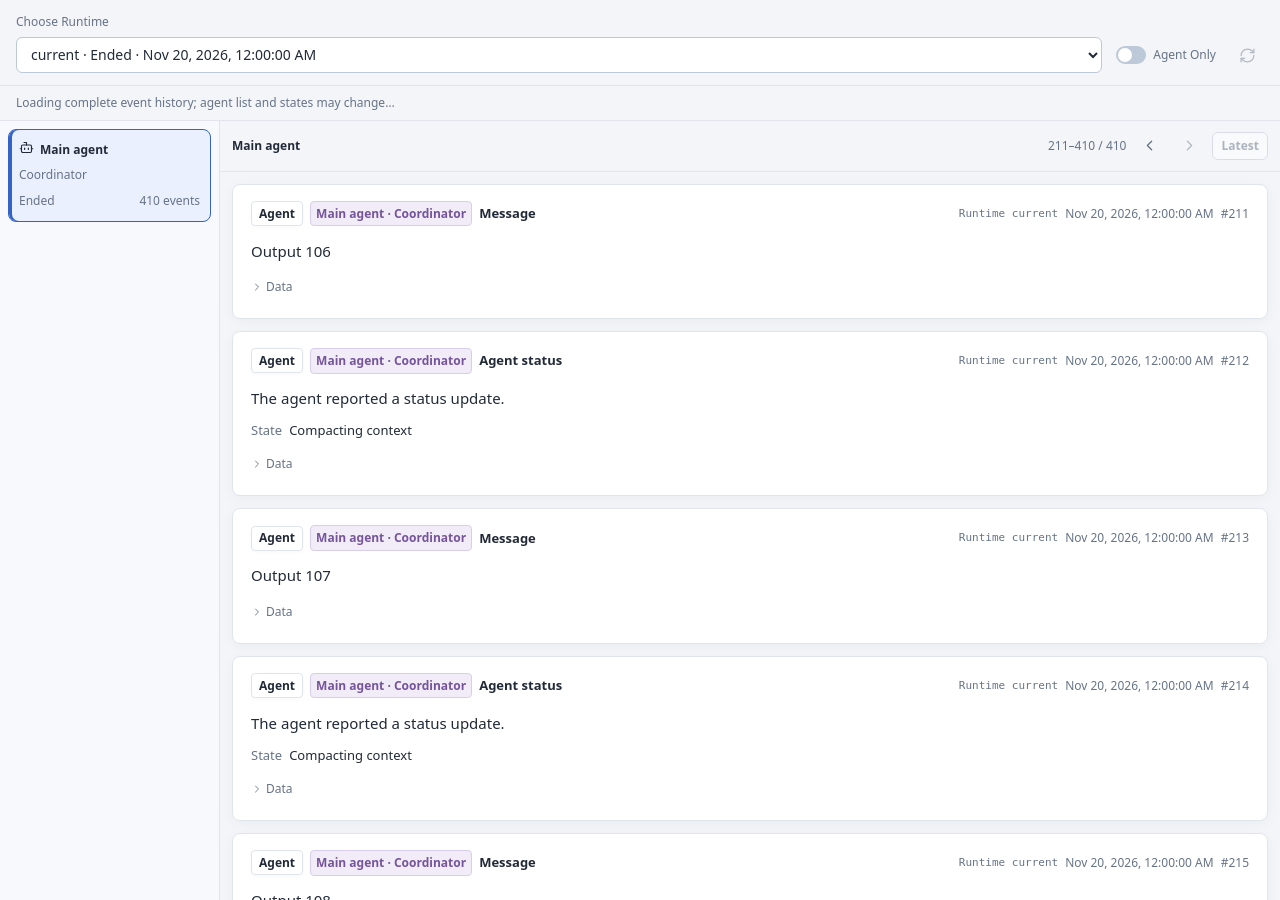
it: resets pagination when Agent Only is enabled and pages only matching messages
What coordinates should you click on to do the following:
click the button named "Previous page"
I would click on:
 (1150, 146)
Its box is x1=1132 y1=129 x2=1166 y2=163.
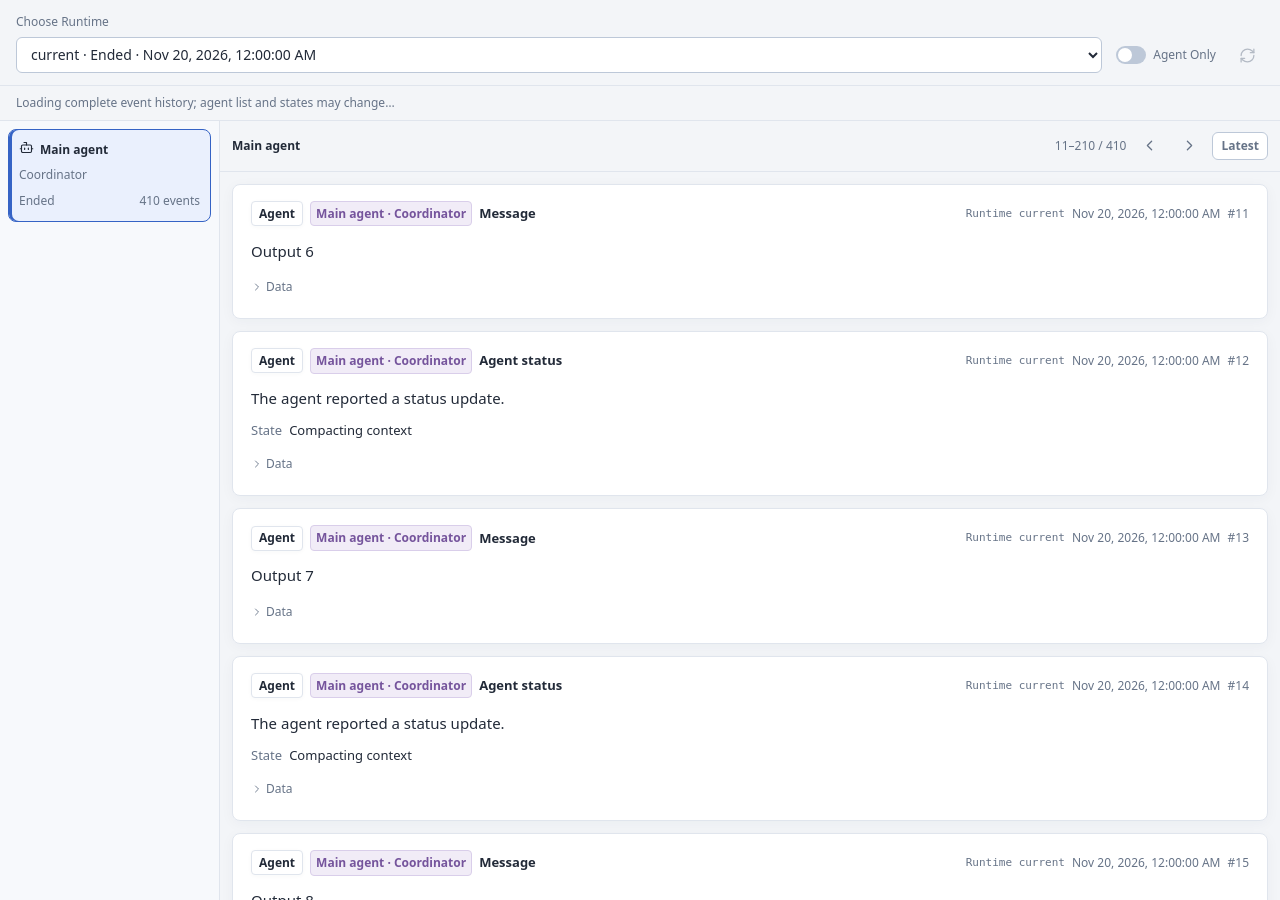
What coordinates should you click on to do the following:
click the switch labelled "Agent Only"
I would click on:
 (1166, 55)
Its box is x1=1110 y1=37 x2=1222 y2=73.
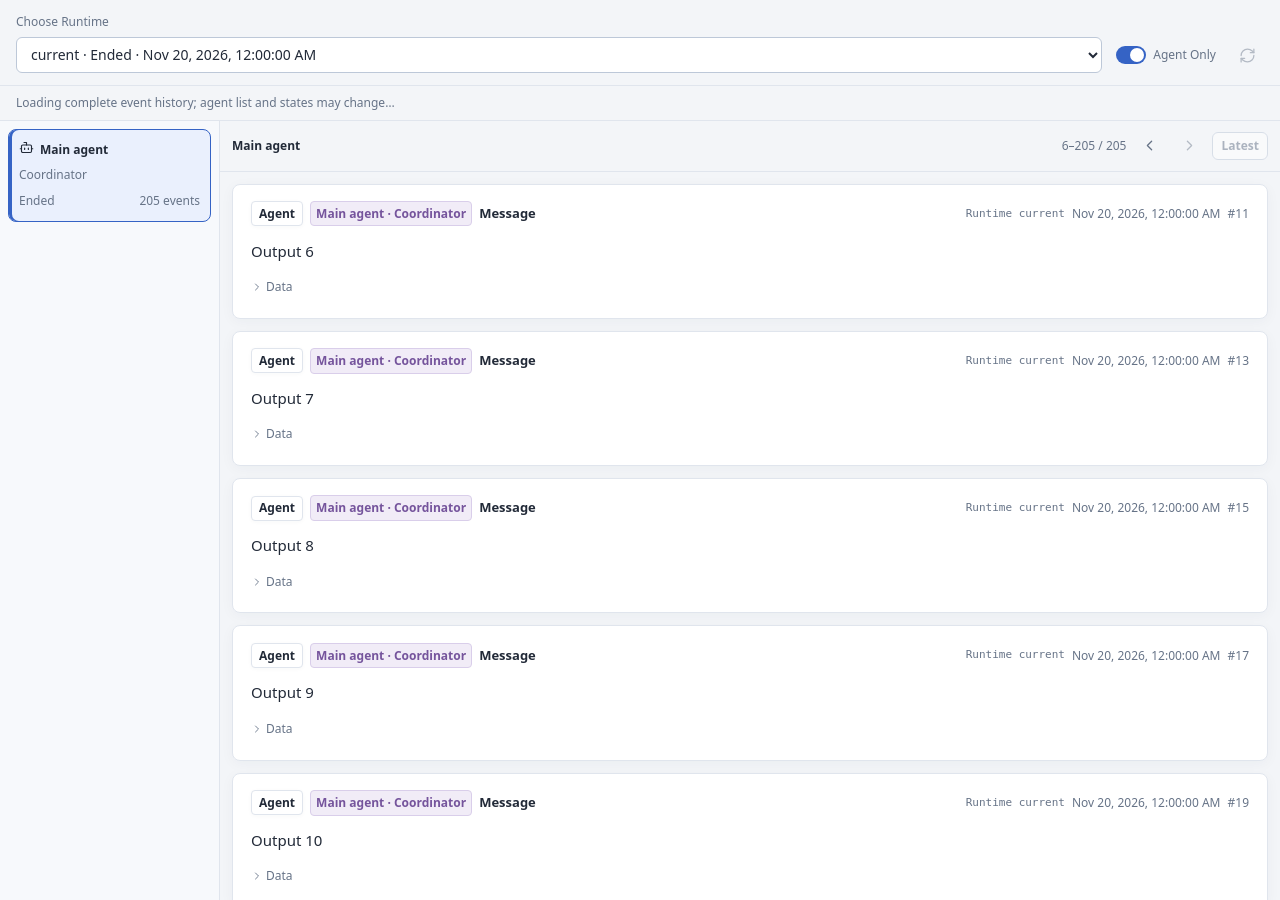
What coordinates should you click on to do the following:
click the button named "Previous page"
I would click on:
 (1150, 146)
Its box is x1=1132 y1=129 x2=1166 y2=163.
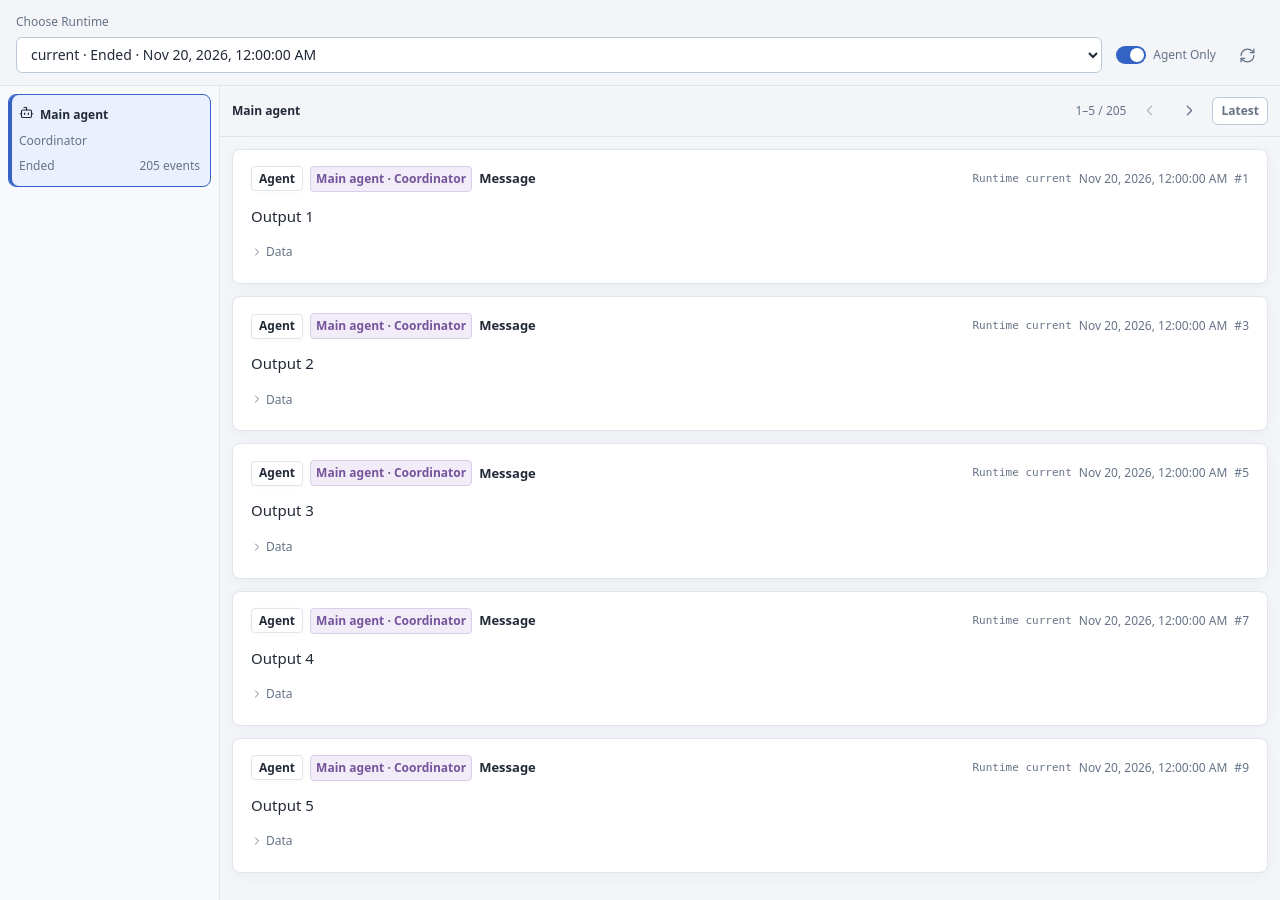
Check: the number of elements with class "event-row" is 5, box x1=232 y1=149 x2=1268 y2=284; x1=232 y1=296 x2=1268 y2=431; x1=232 y1=443 x2=1268 y2=579; x1=232 y1=591 x2=1268 y2=726; x1=232 y1=738 x2=1268 y2=873
Check: the text "Output 1" is shown, box x1=251 y1=206 x2=314 y2=226
